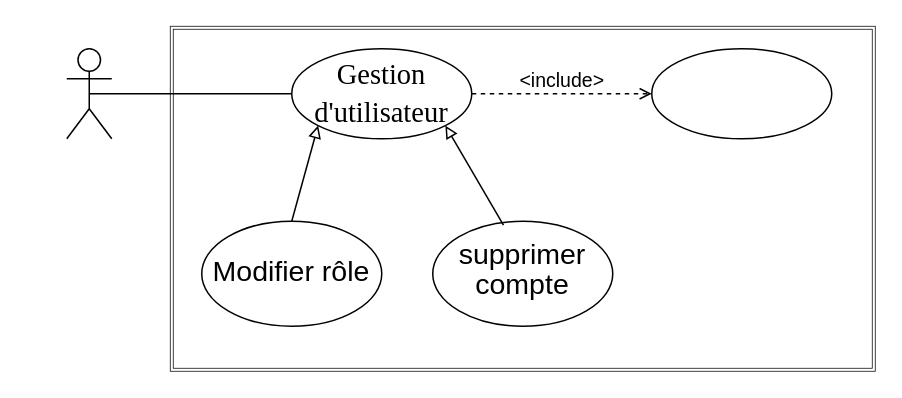
The diagram is 902 pixels wide and 398 high, and some of its shapes have lost their labels. The shapes that lost their labels are listed below. From the top down, each one's box as (x1, y1, x2, y2) in pixels, then its label:
(65, 47, 112, 139): Administrateur
(650, 47, 832, 139): S’authentifier
